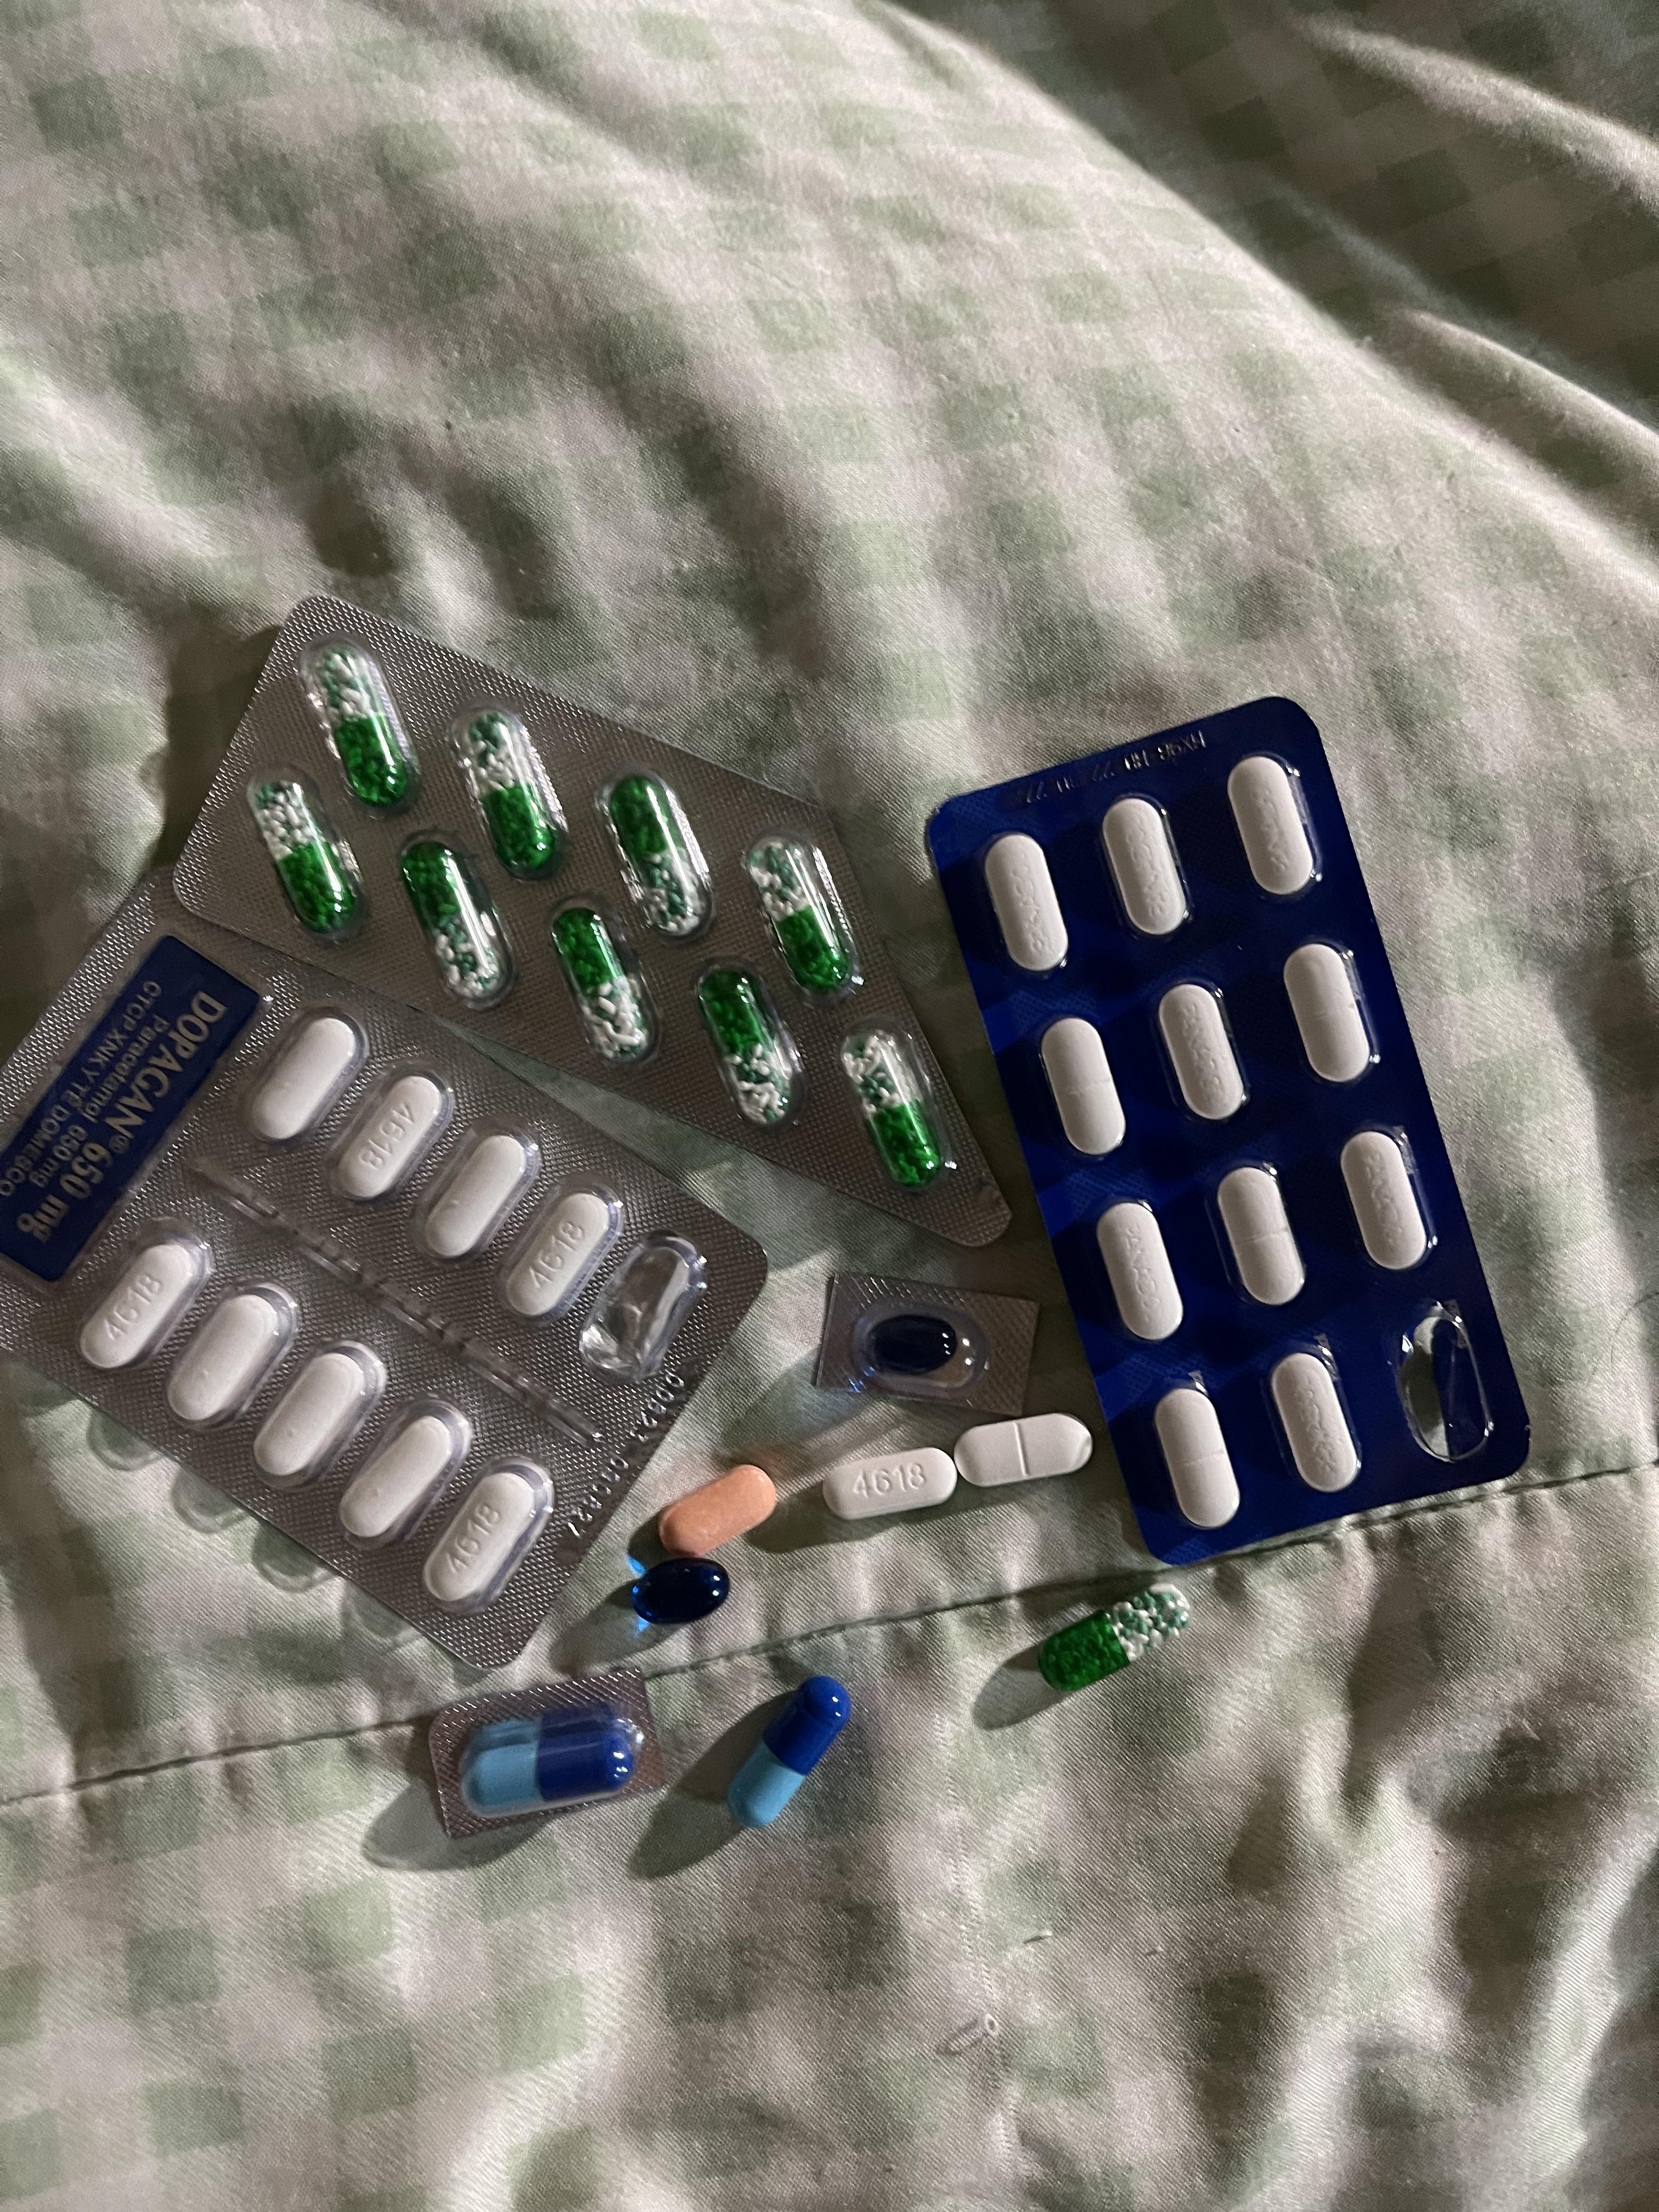Lincomyxin_500mg: (626, 1555, 732, 1625), (870, 1313, 958, 1376)
Loratadine_10mg: (662, 1463, 777, 1552)
Paracetamol_350mg: (1227, 752, 1319, 897), (1270, 1350, 1363, 1494), (1155, 982, 1248, 1123), (1284, 941, 1375, 1083), (1215, 1165, 1305, 1308), (1340, 1129, 1431, 1270), (1154, 1386, 1241, 1529), (1101, 798, 1188, 937), (1096, 1204, 1182, 1343), (983, 834, 1066, 974), (1040, 1019, 1124, 1158), (957, 1414, 1094, 1487)
Paracetamol_500mg: (416, 1454, 556, 1606), (336, 1395, 472, 1548), (78, 1223, 214, 1372), (167, 1275, 301, 1426), (254, 1336, 389, 1484), (500, 1177, 627, 1322), (328, 1064, 455, 1205), (247, 1012, 364, 1144), (416, 1132, 535, 1259), (826, 1447, 955, 1521)
Paracetamol_650mg: (699, 970, 809, 1144), (399, 840, 505, 1001), (608, 775, 711, 942), (744, 836, 850, 995), (315, 646, 418, 806), (253, 779, 357, 935), (549, 909, 650, 1064), (1040, 1581, 1187, 1686), (464, 716, 559, 874), (845, 1029, 939, 1186)
pill: (464, 1703, 641, 1815), (734, 1676, 847, 1827)
